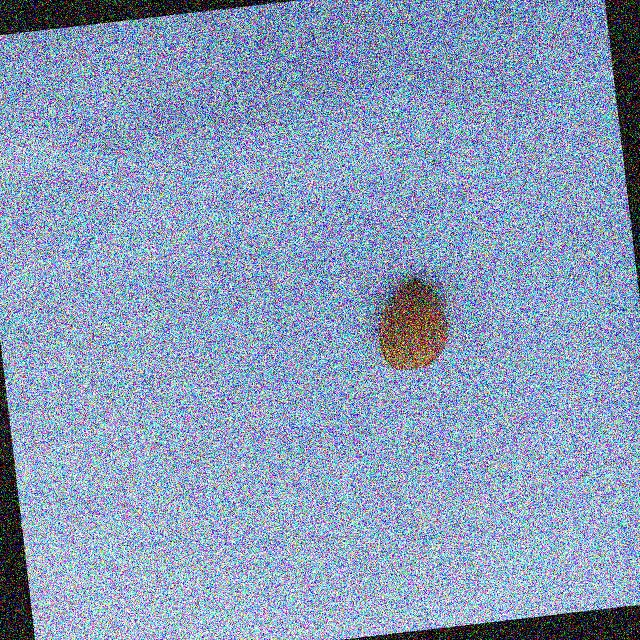grade2: (365, 272, 456, 377)
